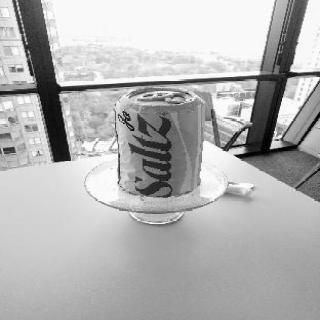alumunium_can: (115, 88, 208, 202)
